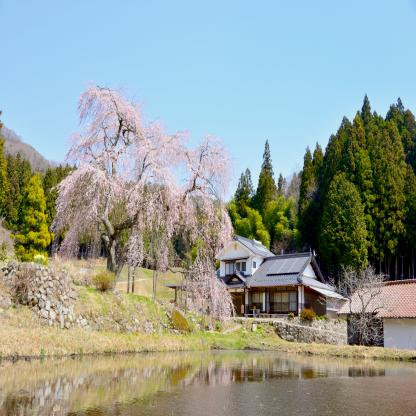ShidareZakura: (49, 79, 242, 329)
